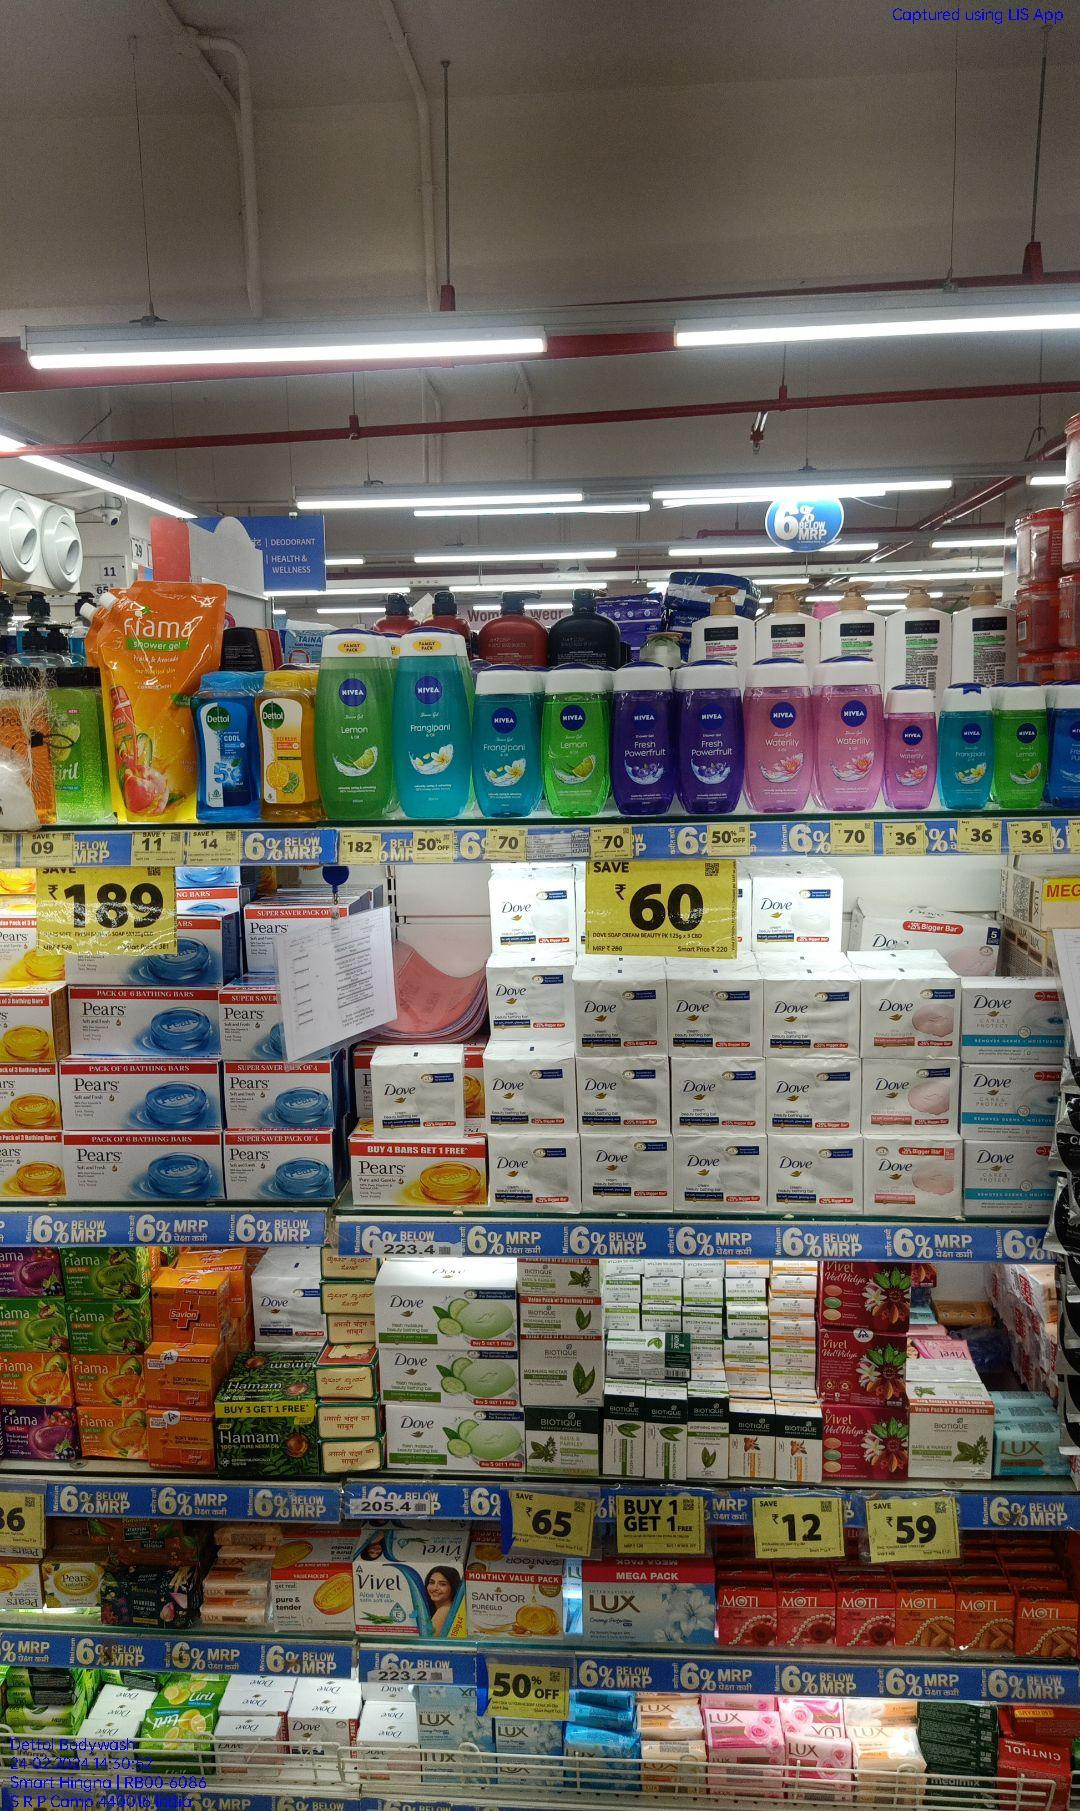Dettol_Bodywash_Cool: (192, 679, 256, 824)
Dettol_Bodywash_Refresh: (260, 672, 319, 825)
Nivea_Shower_Gel_Frangipani_and_Oil_250ML: (397, 626, 465, 819), (476, 676, 539, 817)
Nivea_Shower_Gel_Fresh_Powerfruit_250ML: (613, 665, 676, 817), (679, 663, 741, 816)
Nivea_Shower_Gel_Lemon_and_Oil_250ML: (320, 632, 396, 823), (541, 671, 608, 815)
Nivea_Shower_Gel_Waterlily_and_Oil_250ML: (750, 659, 813, 814), (822, 658, 879, 814)
